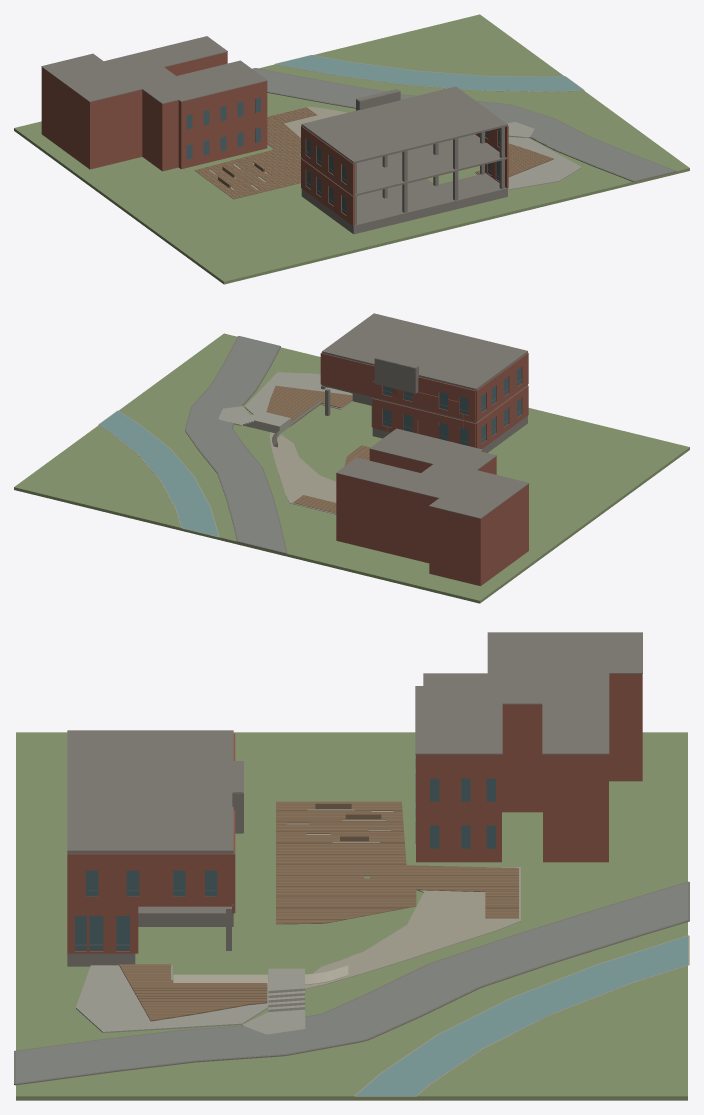
File: context.glb
The picture shows the model from 3 angles, top to bottom: view 1: azimuth 30°, elevation 25°; view 2: azimuth 150°, elevation 25°; view 3: azimuth 270°, elevation 25°; orthographic projection. The views are drawn at different scales.
Parts seen in each view (by area): view 1: context-39-7, context-34-0, context-38-6, context-38-5, context-40-9, context-41-12, context-35-2, context-42-15, context-42-13, context-42-14, context-40-10, context-36-4 (+4 smaller); view 2: context-39-7, context-38-6, context-34-0, context-40-9, context-35-2, context-38-5, context-41-12, context-43-17, context-40-10, context-36-4, context-42-13, context-42-15 (+4 smaller); view 3: context-39-7, context-40-9, context-34-0, context-38-6, context-38-5, context-42-15, context-42-14, context-42-13, context-41-12, context-35-2, context-43-17, context-40-10 (+5 smaller).
Boxes of the visible parts, left/top/right/bottom form: context-39-7: left=14, top=14, right=689, bottom=284; context-34-0: left=301, top=86, right=507, bottom=234; context-38-6: left=41, top=52, right=267, bottom=171; context-38-5: left=41, top=36, right=267, bottom=104; context-40-9: left=252, top=68, right=674, bottom=180; context-41-12: left=275, top=55, right=583, bottom=91; context-35-2: left=301, top=125, right=508, bottom=225; context-42-15: left=197, top=107, right=553, bottom=198; context-42-13: left=194, top=107, right=553, bottom=199; context-42-14: left=196, top=108, right=552, bottom=198; context-40-10: left=475, top=122, right=581, bottom=189; context-36-4: left=186, top=97, right=499, bottom=214; context-39-7: left=14, top=333, right=689, bottom=603; context-38-6: left=336, top=449, right=528, bottom=586; context-34-0: left=322, top=313, right=527, bottom=452; context-40-9: left=186, top=336, right=286, bottom=552; context-35-2: left=320, top=352, right=528, bottom=449; context-38-5: left=336, top=428, right=529, bottom=518; context-41-12: left=99, top=411, right=218, bottom=536; context-43-17: left=269, top=400, right=336, bottom=514; context-40-10: left=218, top=372, right=352, bottom=427; context-36-4: left=383, top=367, right=521, bottom=445; context-42-13: left=266, top=386, right=369, bottom=513; context-42-15: left=267, top=385, right=369, bottom=512; context-39-7: left=16, top=732, right=687, bottom=1100; context-40-9: left=16, top=882, right=687, bottom=1083; context-34-0: left=67, top=730, right=243, bottom=966; context-38-6: left=416, top=674, right=642, bottom=862; context-38-5: left=415, top=632, right=642, bottom=754; context-42-15: left=120, top=803, right=518, bottom=1021; context-42-14: left=119, top=802, right=518, bottom=1020; context-42-13: left=119, top=801, right=518, bottom=1021; context-41-12: left=355, top=936, right=687, bottom=1095; context-35-2: left=67, top=733, right=235, bottom=953; context-43-17: left=173, top=809, right=520, bottom=989; context-40-10: left=76, top=965, right=305, bottom=1034.
Bounding box in the file's own units: 55.05 × 9.49 × 43.15.
